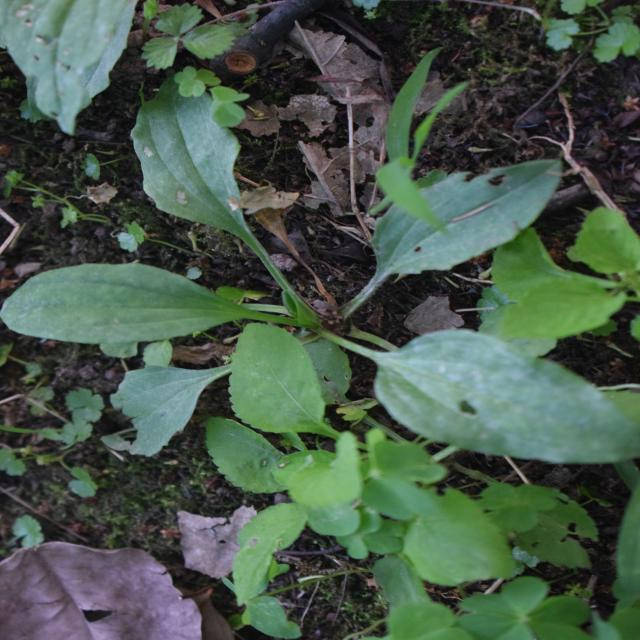plantain: (155, 49, 540, 578)
